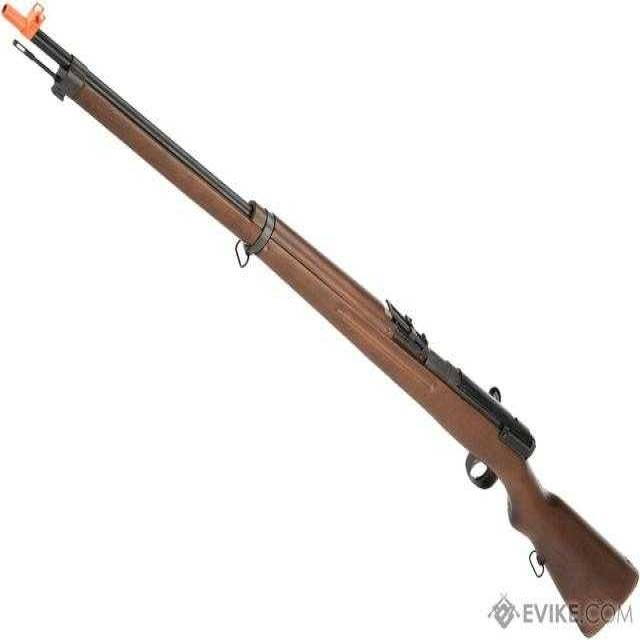heavyweapon: (2, 2, 640, 637)
